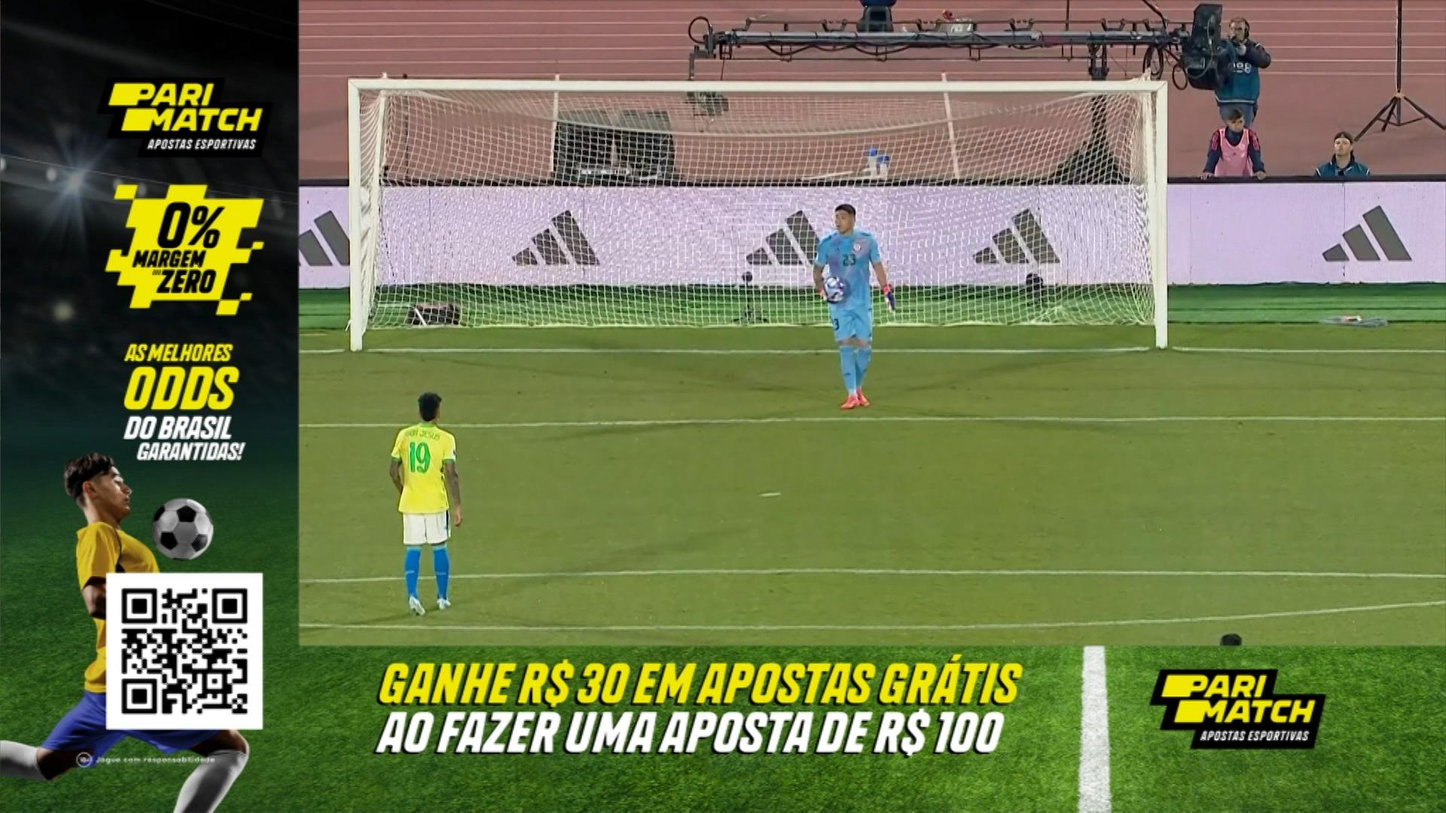objects: (0, 2, 1445, 812)
